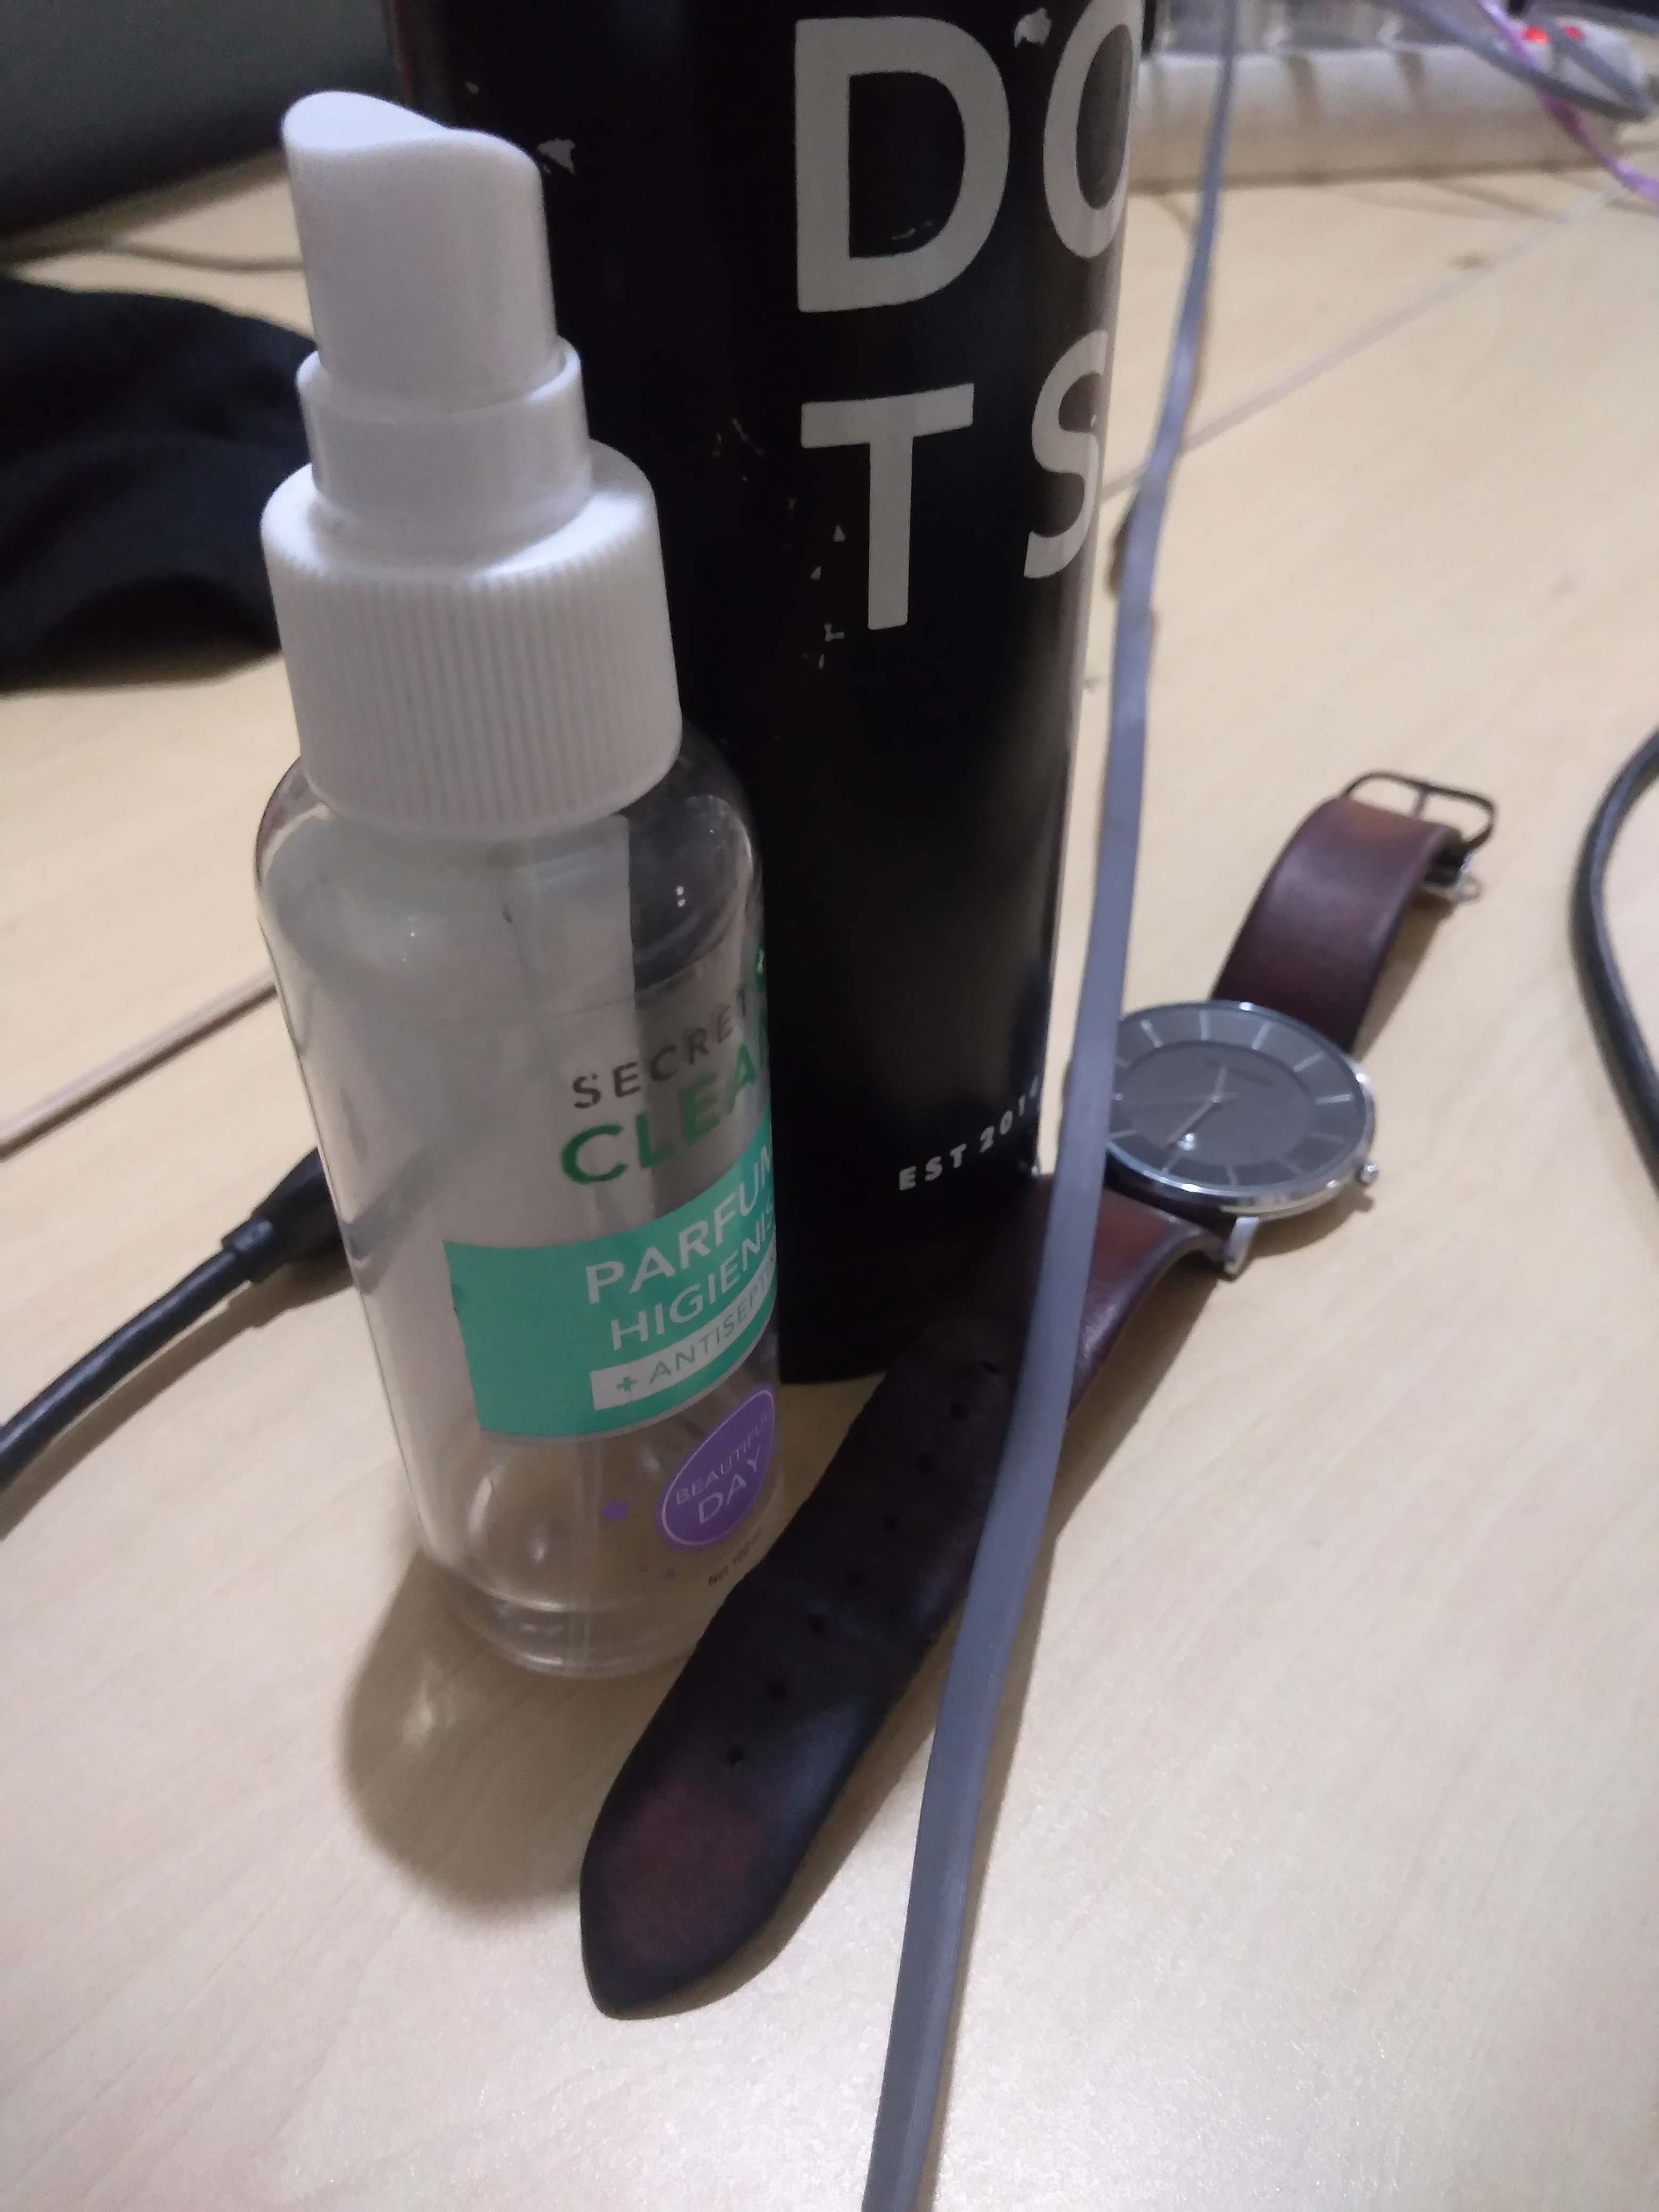hand sanitizer: (167, 28, 843, 1658)
